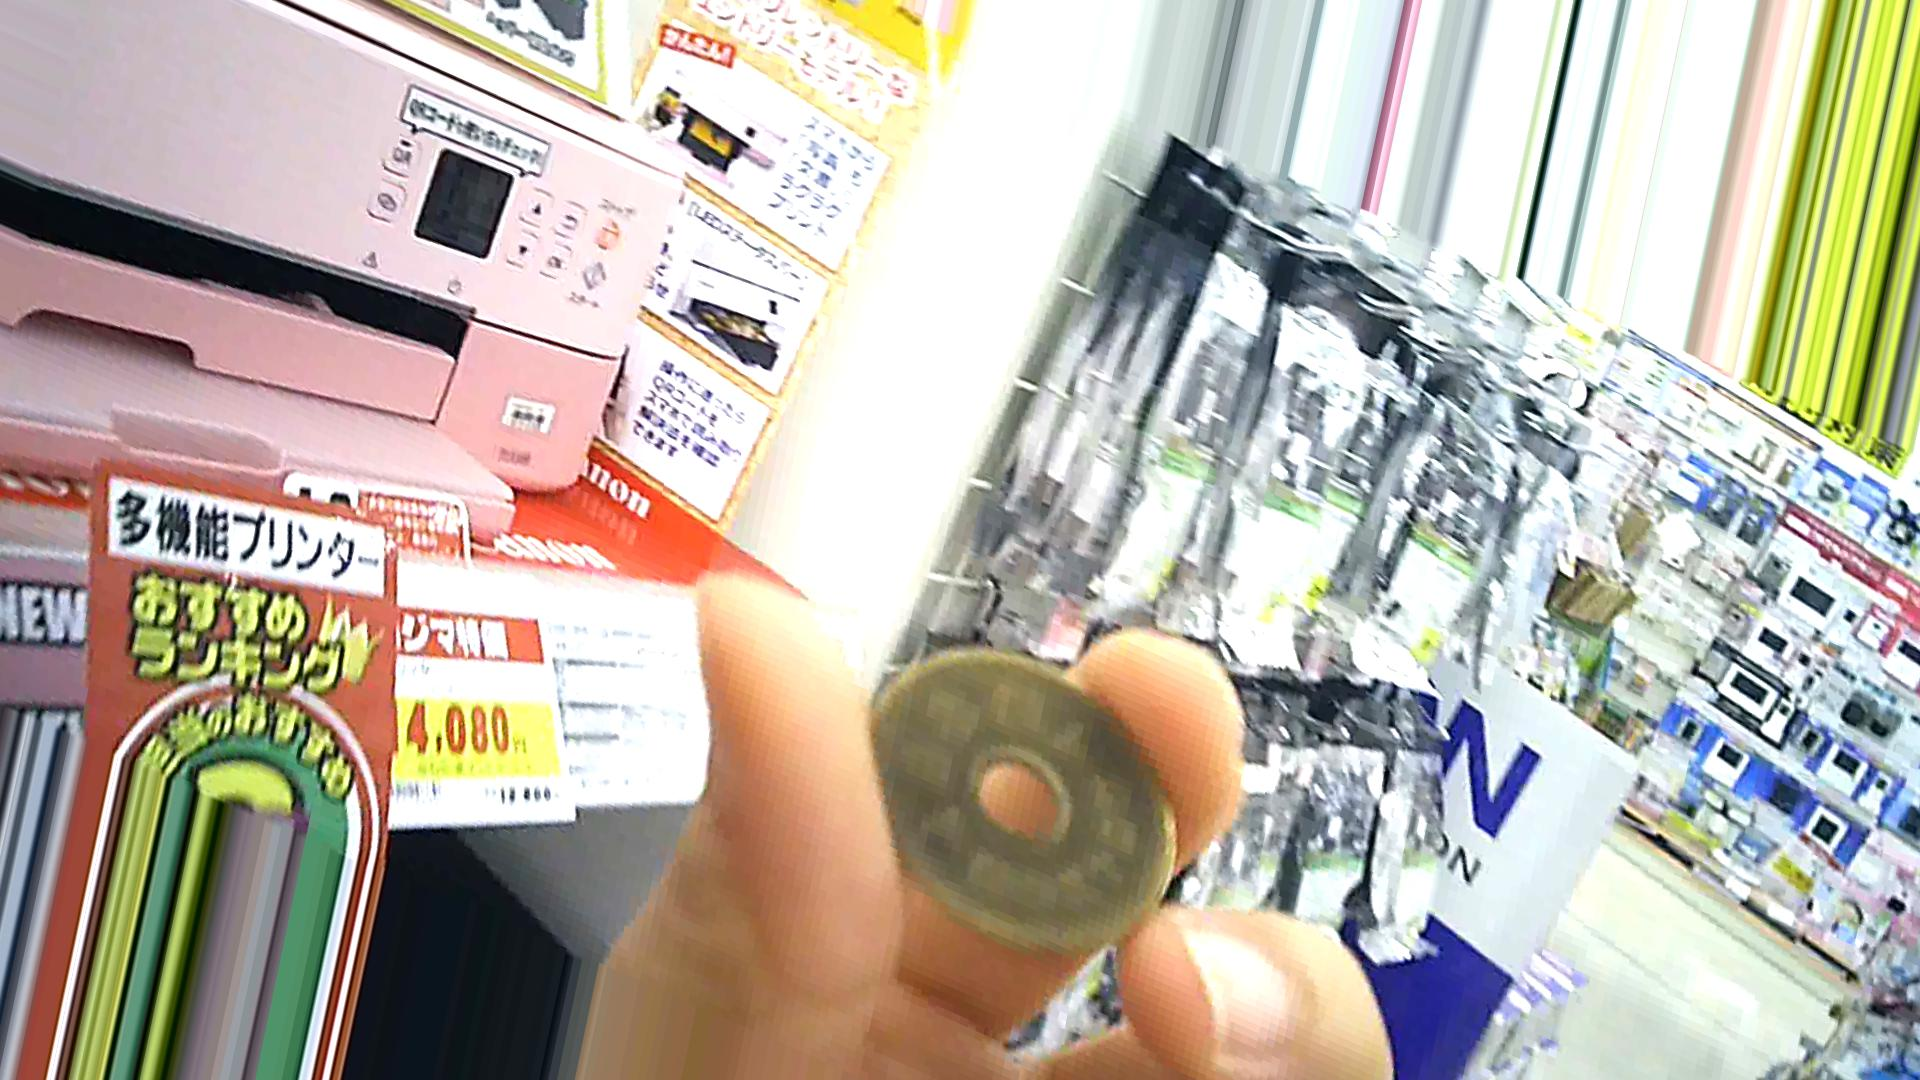5 Yen: (855, 651, 1184, 953)
